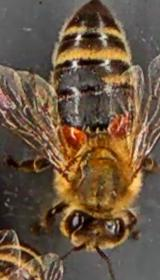varroa_mite: (100, 112, 132, 140), (59, 117, 92, 144)
